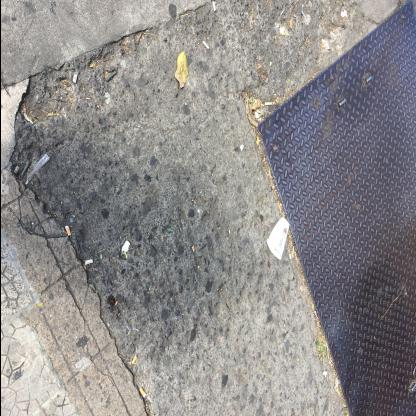karton: (265, 216, 289, 260)
